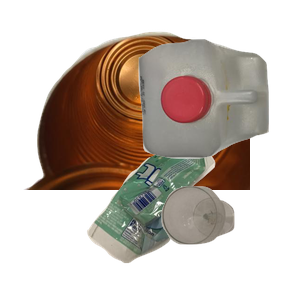glass: (159, 184, 300, 300)
metal: (21, 29, 261, 209)
plastic: (136, 37, 300, 188)
trash: (84, 133, 292, 300)
